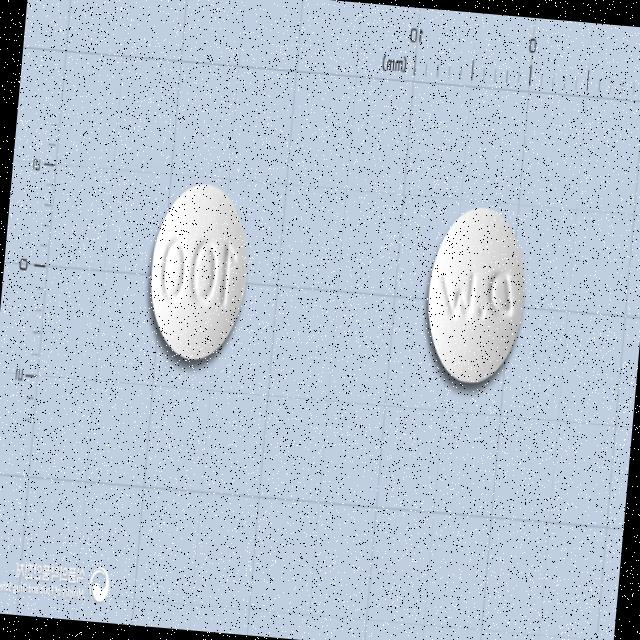Daewoong Levofloxacin: (420, 199, 532, 389), (142, 178, 255, 364)
